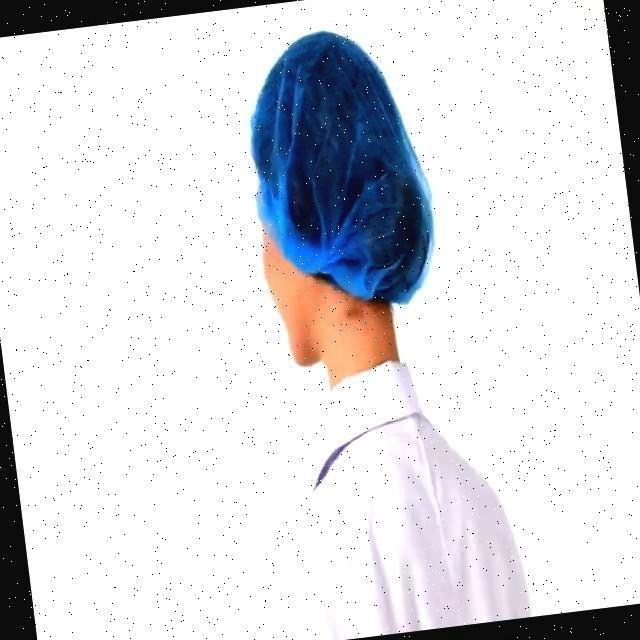gloves: (263, 44, 416, 280)
